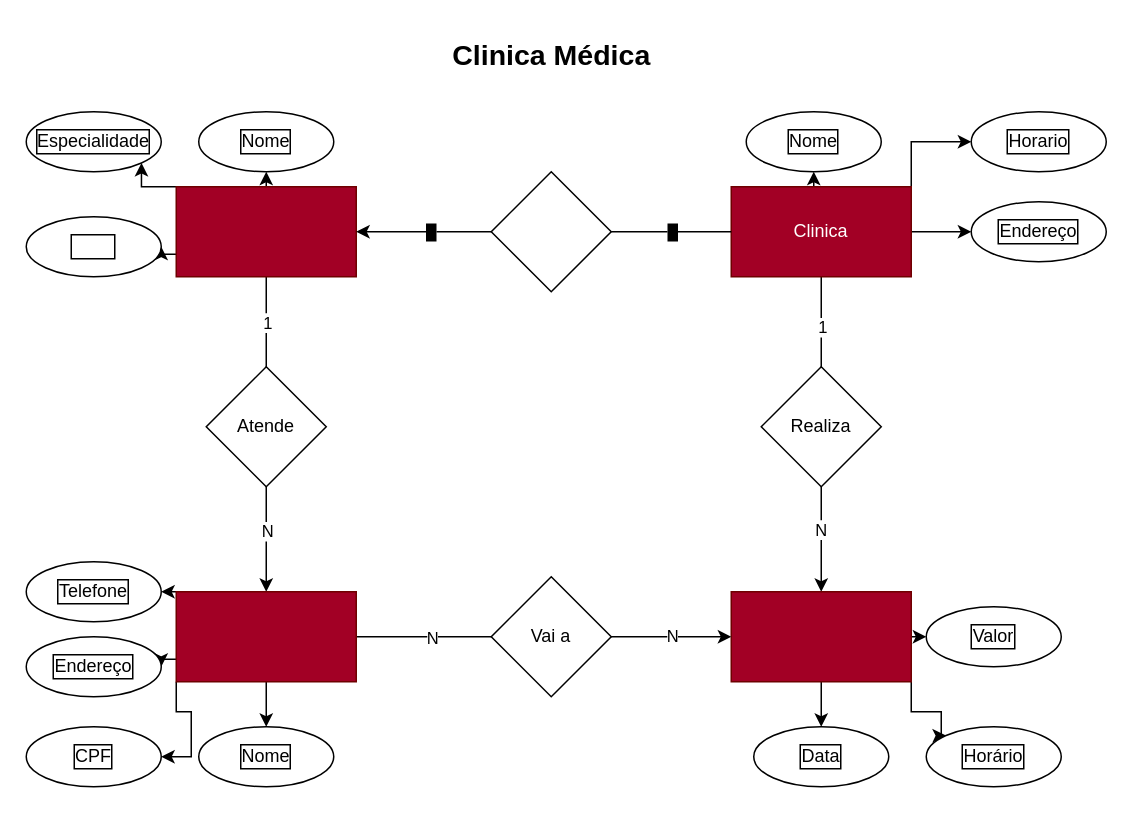
The diagram is 1133 pixels wide and 813 high, and some of its shapes have lost their labels. The shapes that lost their labels are listed below. From the top down, each one's centre as x and y in pixels, then its label:
At pixel 265 231: "Médico".
At pixel 550 231: "Contém".
At pixel 265 636: "Paciente".
At pixel 820 636: "Consulta".
